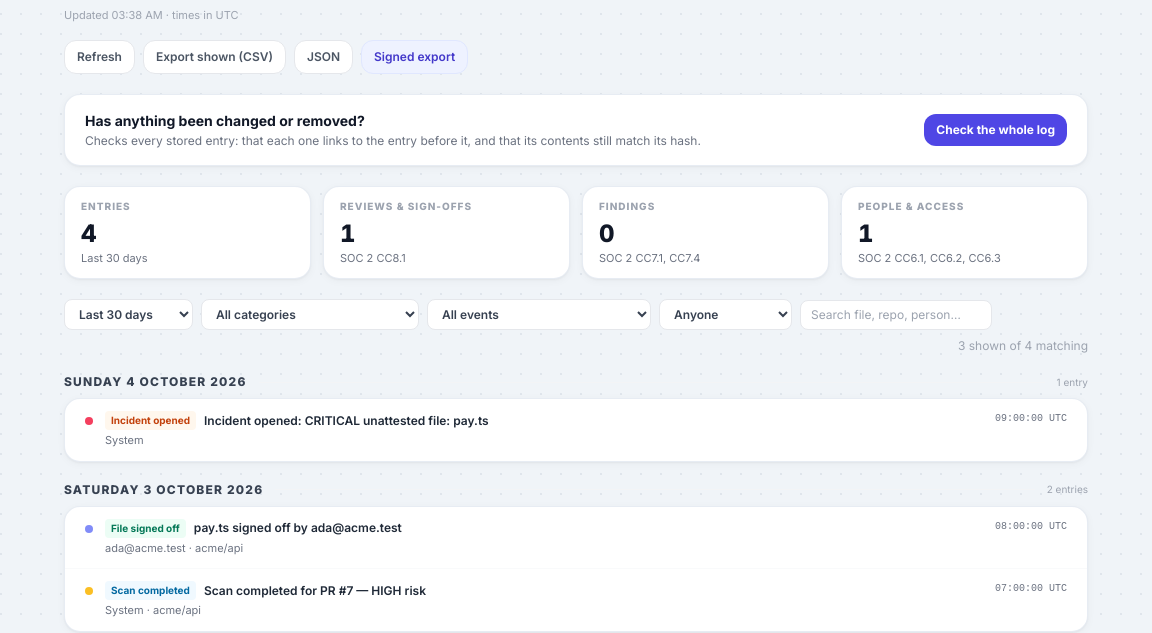
Test: Audit Trail page › an entry opens to its facts, SOC 2 criteria, stored hash and a link
This screenshot has width=1152, height=633.
Click the text "pay.ts signed off by ada@acme.test": (298, 528) [194, 520, 402, 536]
(page scrolled)
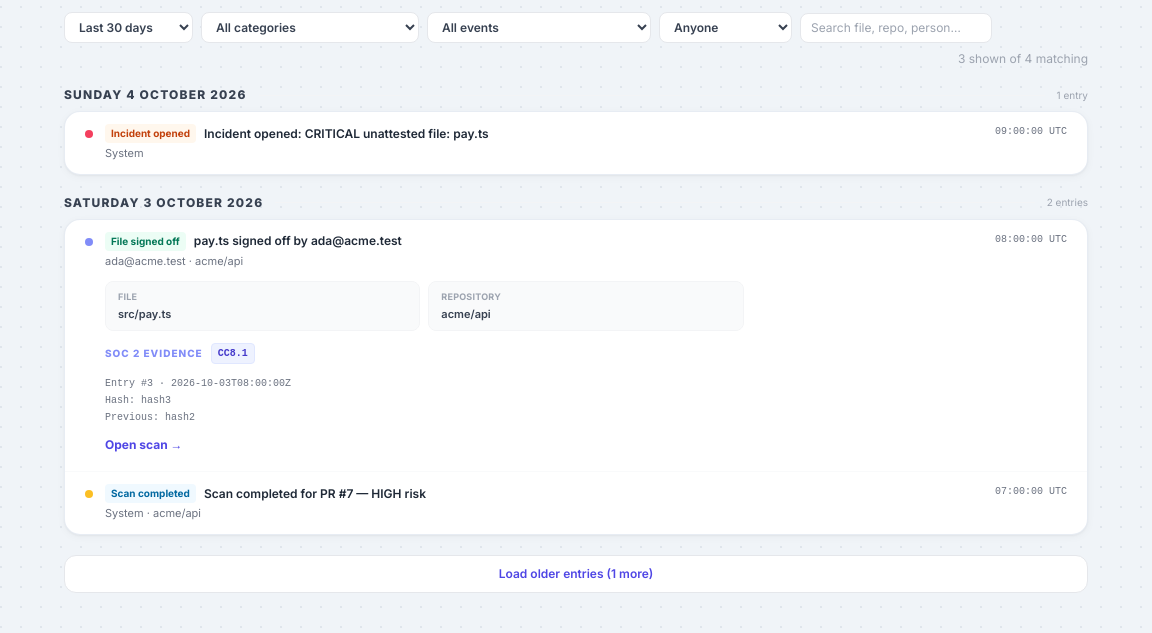
Expected: the text "Hash: hash3" is shown, [105, 395, 171, 406]
Expected: the text "Previous: hash2" is shown, [105, 412, 195, 423]
Expected: the text "CC8.1" is shown, [211, 343, 255, 364]
